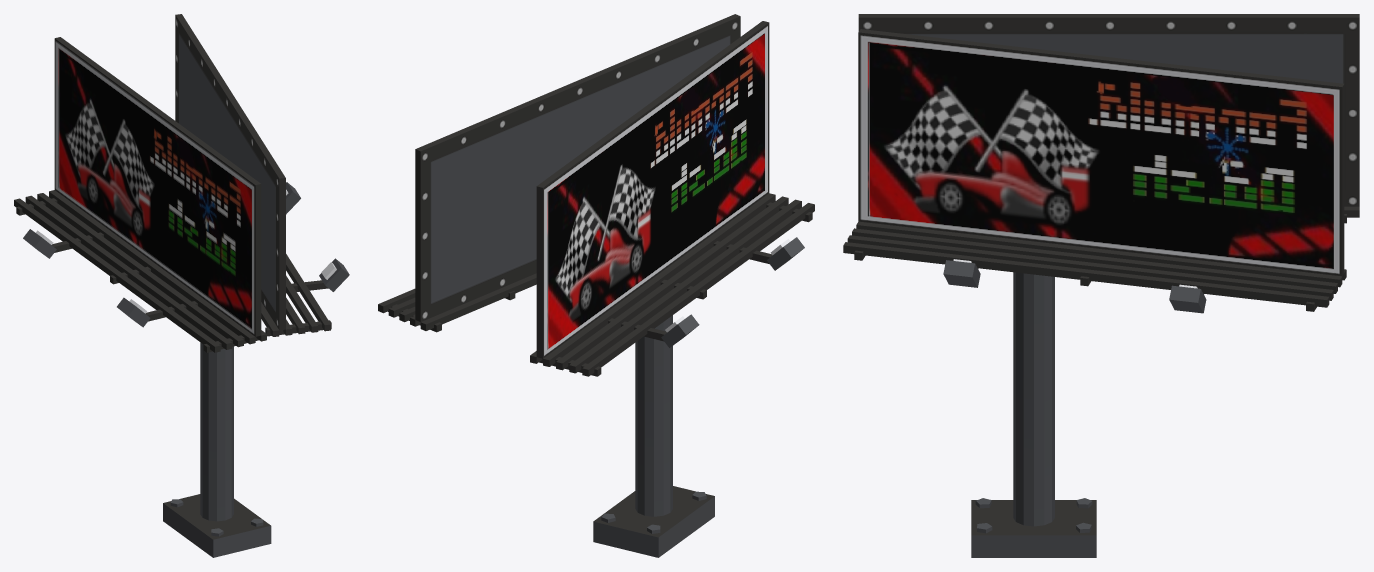
Rendered from Billboard.obj.
The picture shows the model from 3 angles, left to right: view 1: azimuth 30°, elevation 25°; view 2: azimuth 150°, elevation 25°; view 3: azimuth 270°, elevation 25°; orthographic projection. The views are drawn at different scales.
Parts seen in each view (by area): view 1: Billboard, base; view 2: Billboard, base; view 3: Billboard, base.
Boxes of the visible parts, x1=… form: Billboard: x1=14, y1=14, x2=349, y2=539; base: x1=163, y1=494, x2=271, y2=557; Billboard: x1=378, y1=14, x2=814, y2=533; base: x1=593, y1=486, x2=714, y2=557; Billboard: x1=843, y1=14, x2=1359, y2=533; base: x1=971, y1=498, x2=1096, y2=557.
Bounding box in the file's own units: 1.32 × 2.01 × 1.86.
